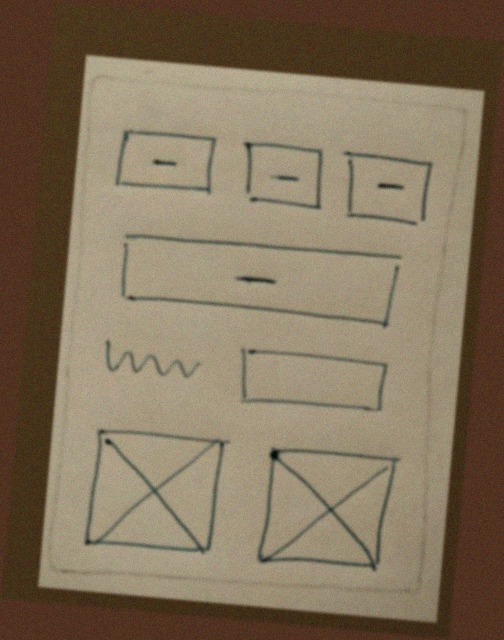button: (111, 224, 411, 333), (104, 120, 230, 202), (332, 143, 441, 236), (235, 135, 331, 214)
image: (74, 414, 238, 559), (251, 433, 405, 581)
text: (93, 333, 209, 391)
text_input: (228, 340, 398, 426)
